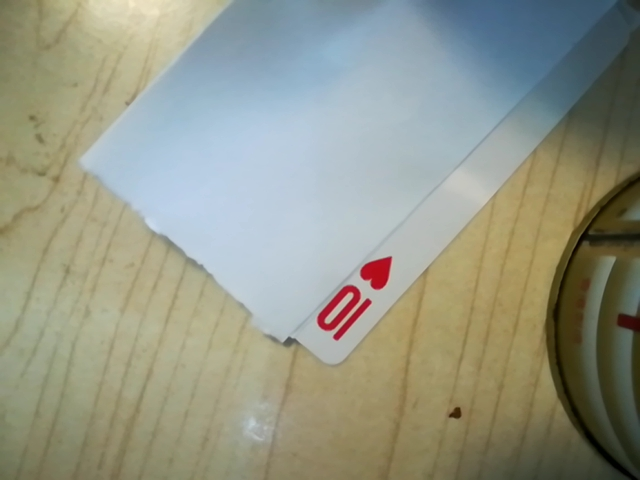hx 10: (304, 249, 396, 350)
